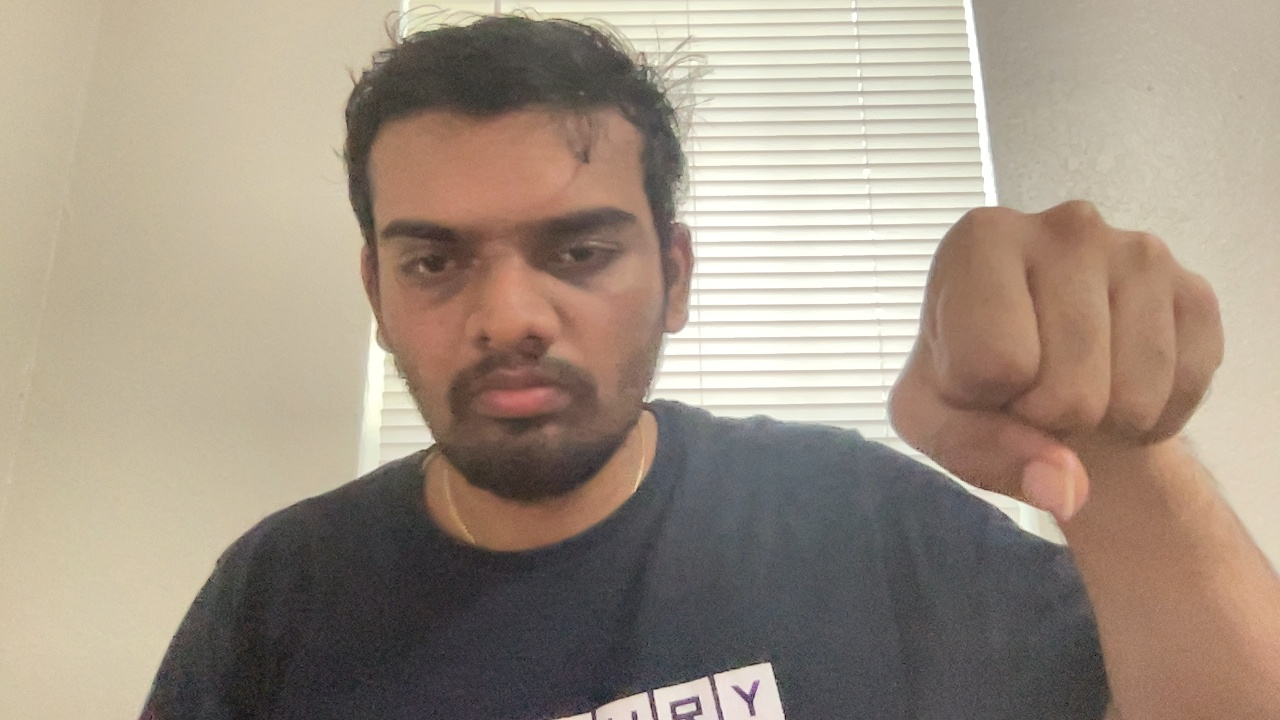yes: (895, 186, 1238, 523)
